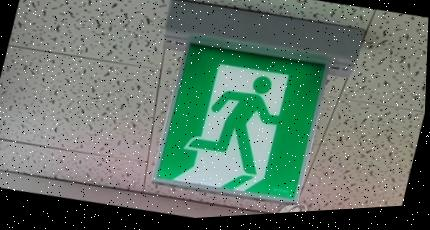emergency_exit: (151, 41, 330, 204)
